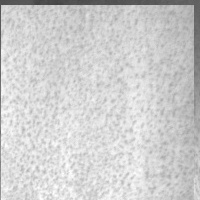pitted_surface: (1, 5, 194, 200), (86, 1, 200, 199), (24, 1, 83, 175)
